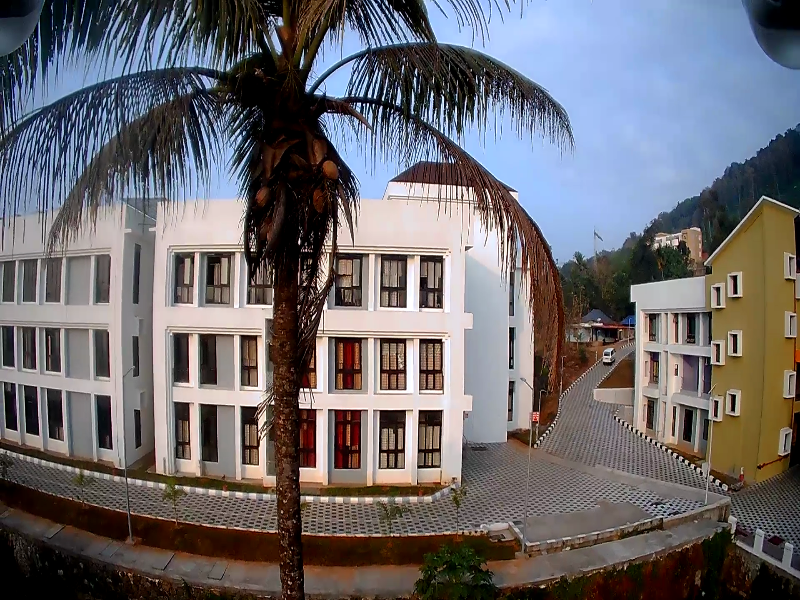coconut: (306, 188, 324, 210), (322, 161, 338, 184), (256, 185, 274, 201)
